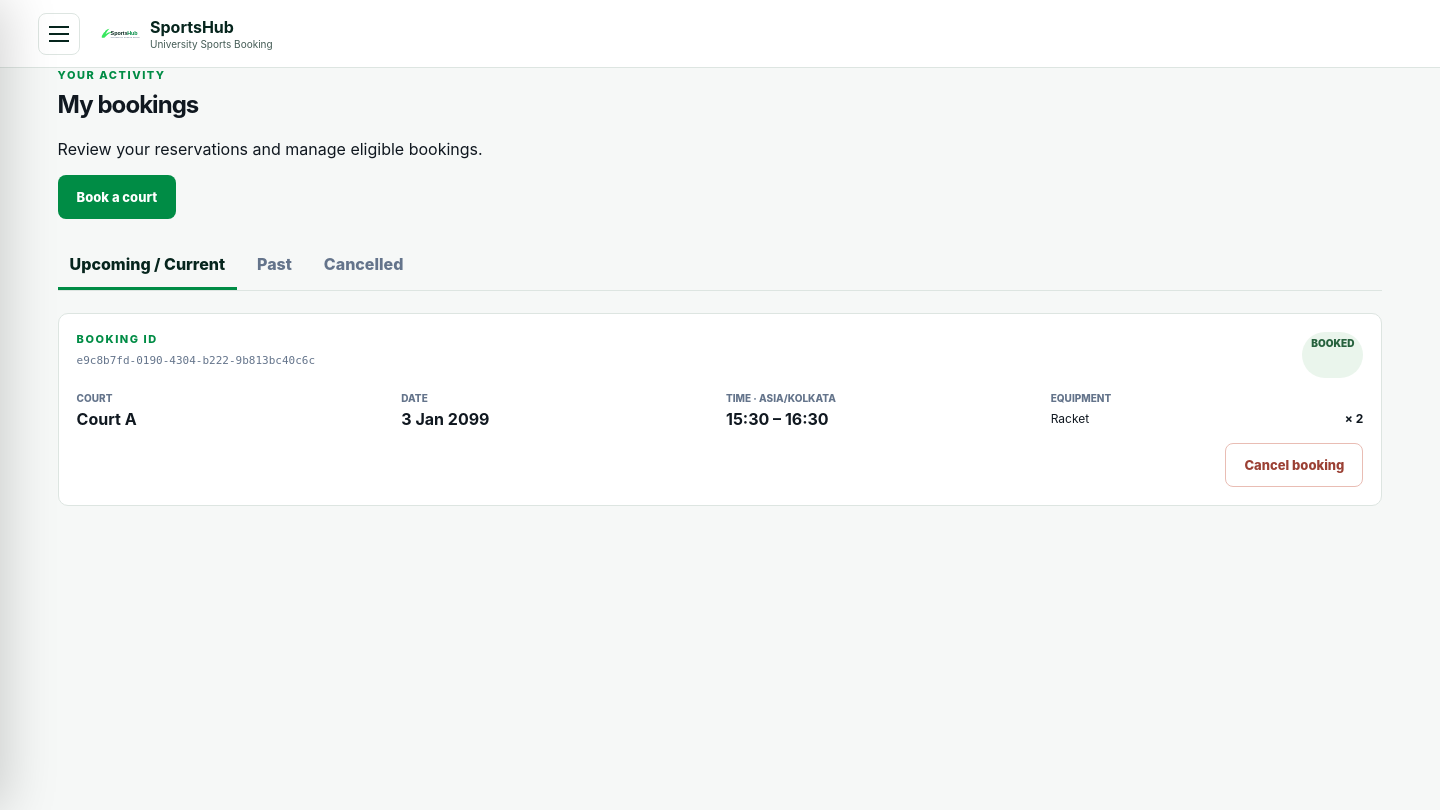
student frontend workflow › loads booking history and updates a booking after confirmed cancellation
Expected: the text "e9c8b7fd-0190-4304-b222-9b813bc40c6c" is shown, [77, 354, 315, 367]
Expected: the text "Court A" is shown, [77, 409, 137, 429]
Click the button "Cancel booking".
click(1294, 465)  # box [1225, 443, 1363, 487]
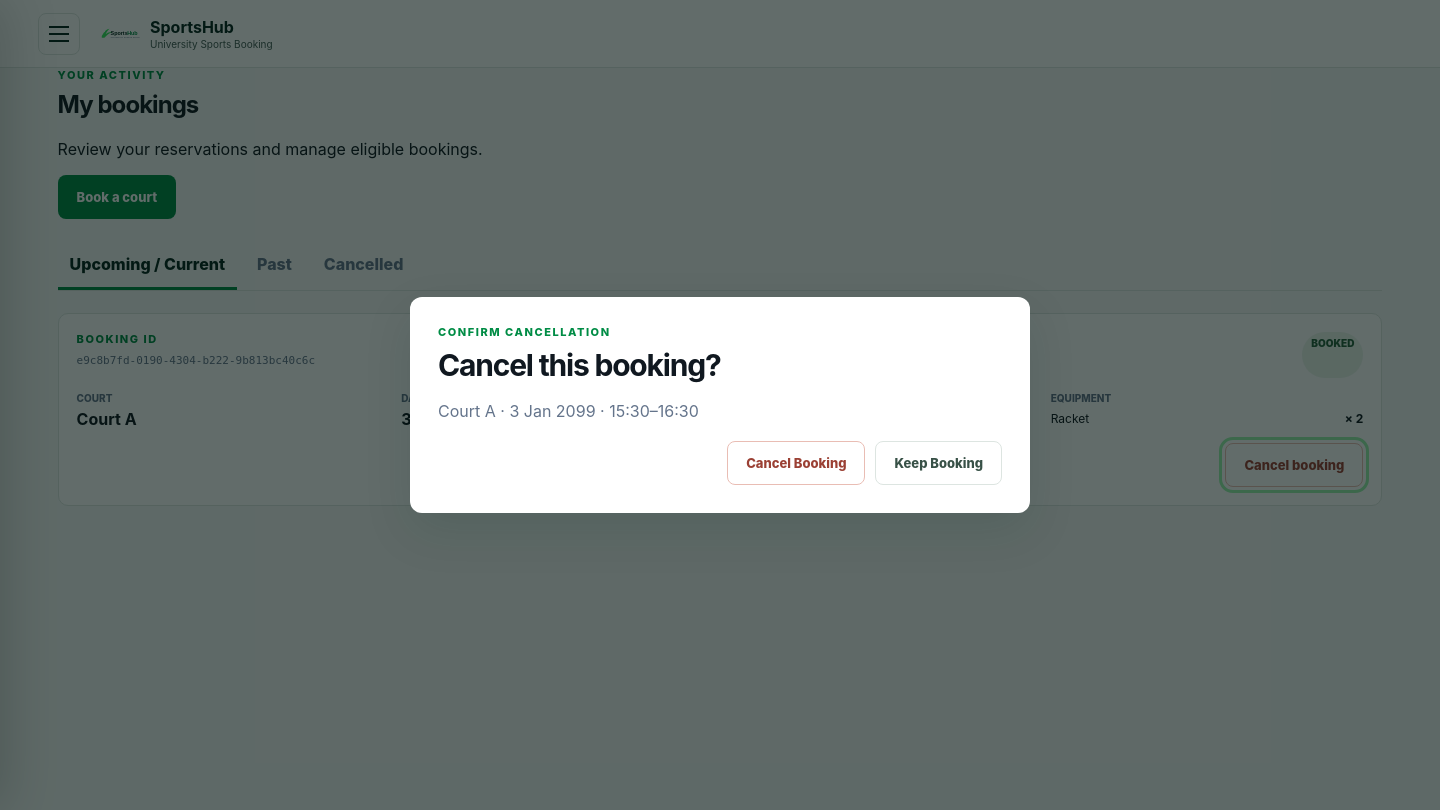
Click the button "Cancel Booking".
click(796, 463)  # box [727, 441, 865, 485]
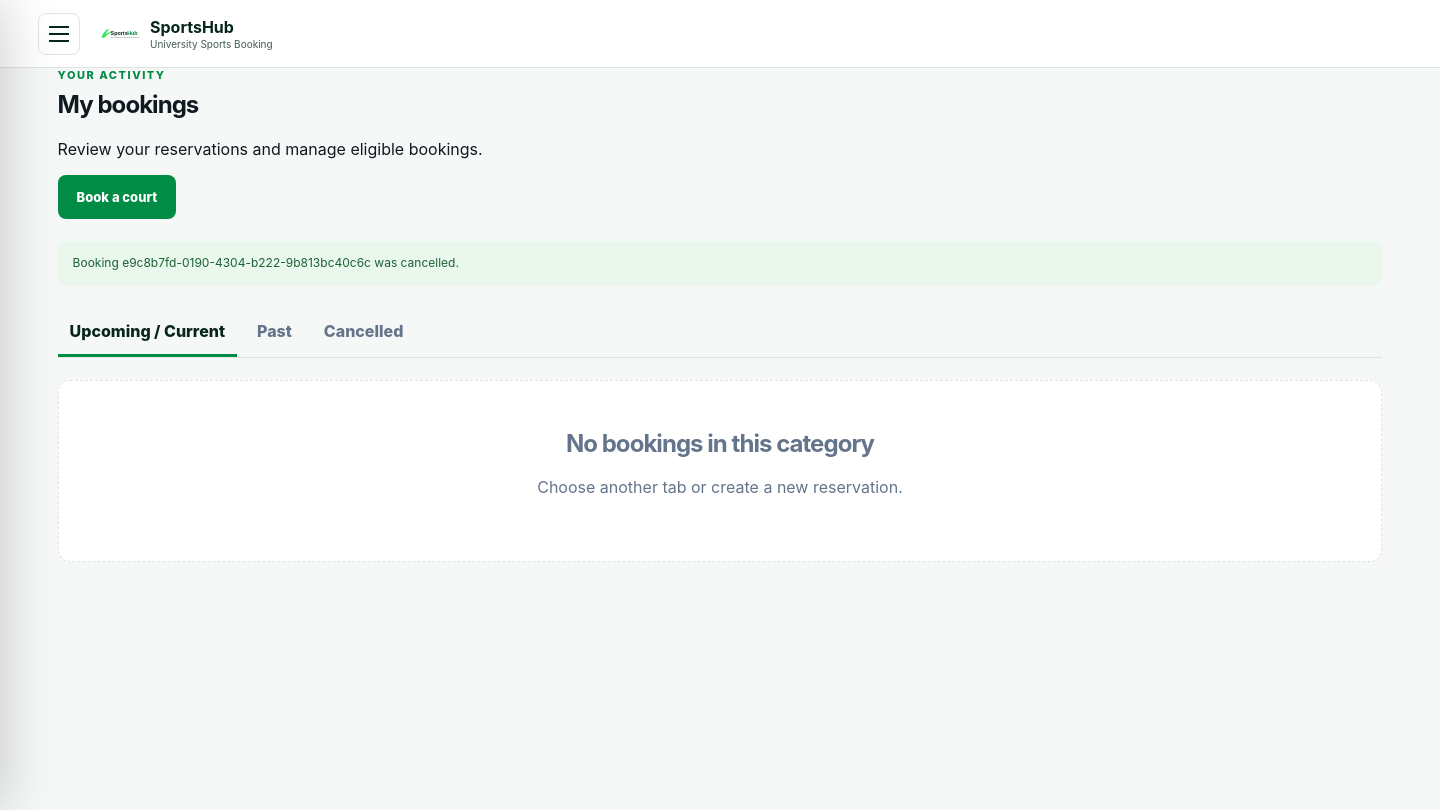
Expected: the message shows "was cancelled", [73, 255, 459, 270]
Click the button "Cancelled".
click(364, 332)  # box [312, 308, 415, 356]
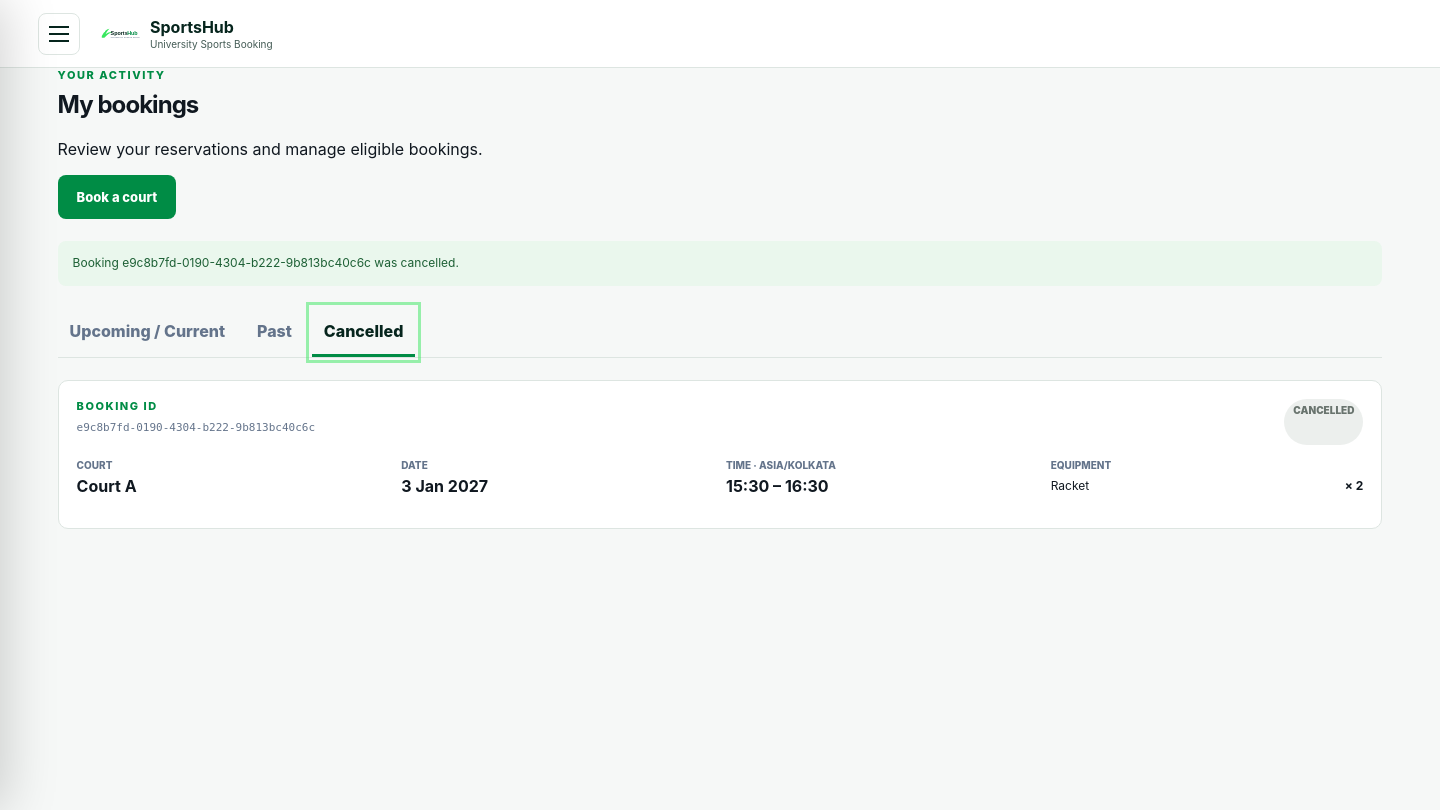
Expected: the button "Cancel booking" is not shown
Expected: the text "CANCELLED" is shown, [1284, 398, 1363, 444]
